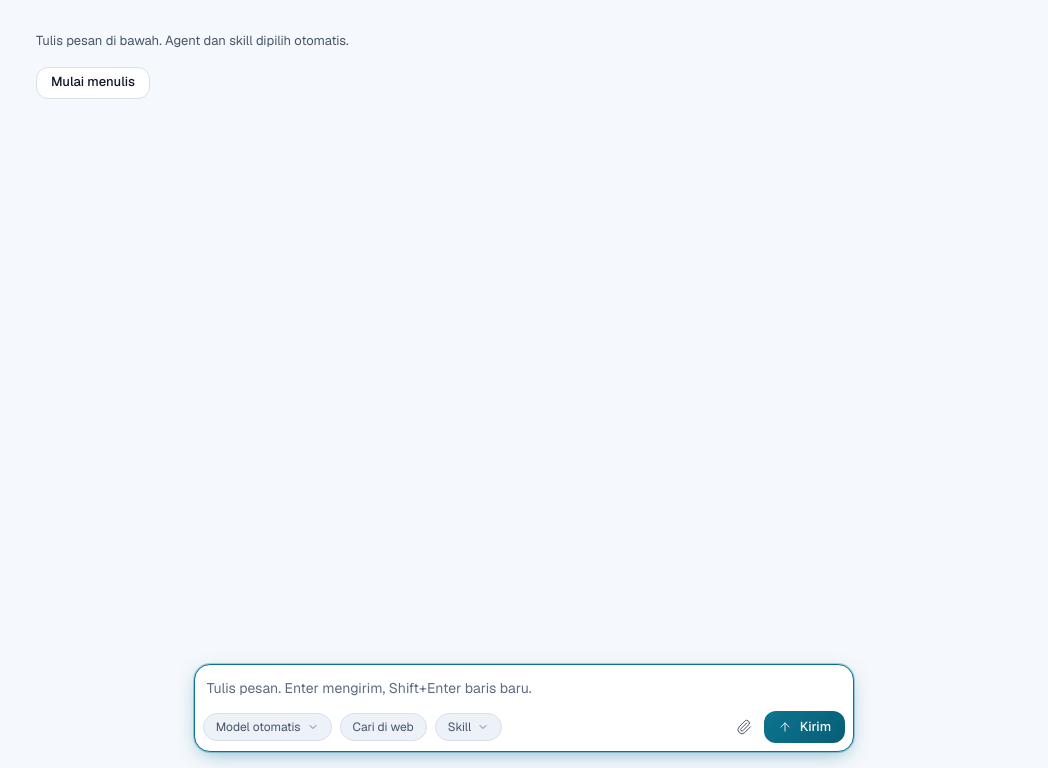
Test: ChatScreen: kirim dan alirkan jawaban › Enter mengirim; jawaban mengalir dari run:<id>; Hentikan membatalkan run
The image size is (1048, 768).
In the text box labelled "pesan": (524, 688) [203, 673, 845, 703], type "Tolong ringkas"
Then press Enter
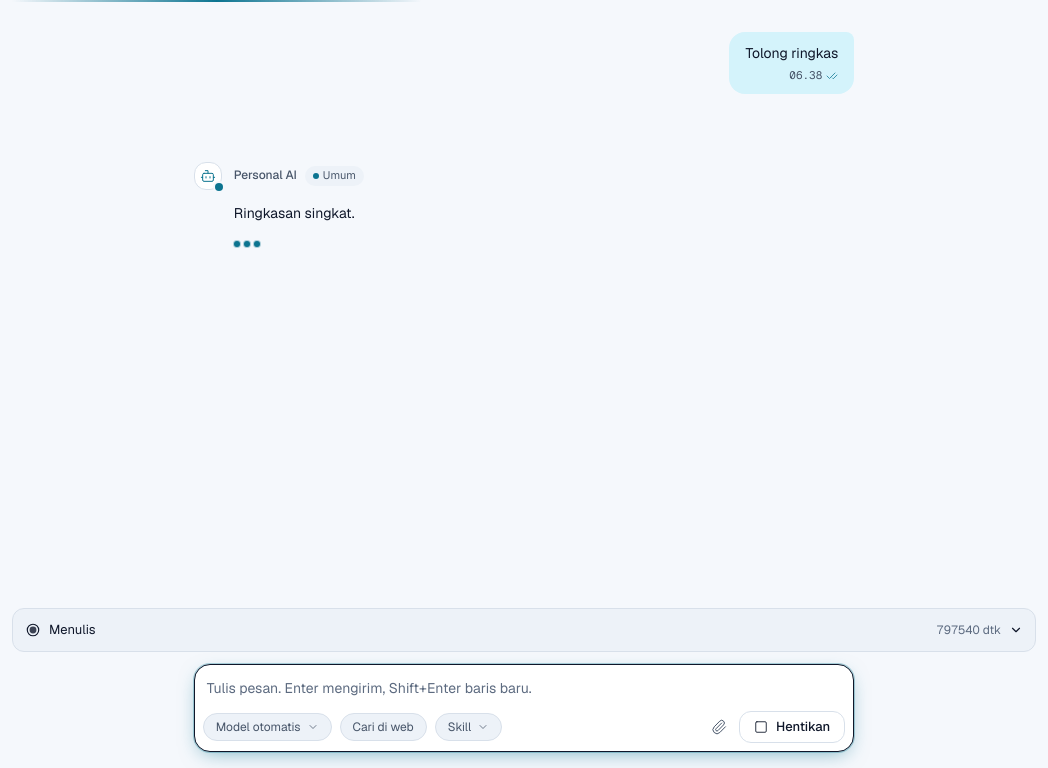
Expected: the text "Tolong ringkas" is shown, [745, 42, 838, 64]
Expected: the text "Ringkasan singkat." is shown, [234, 204, 355, 222]
Expected: the text "Umum" is shown, [305, 166, 364, 186]
Click the button "Hentikan": click(792, 727) [739, 711, 845, 743]
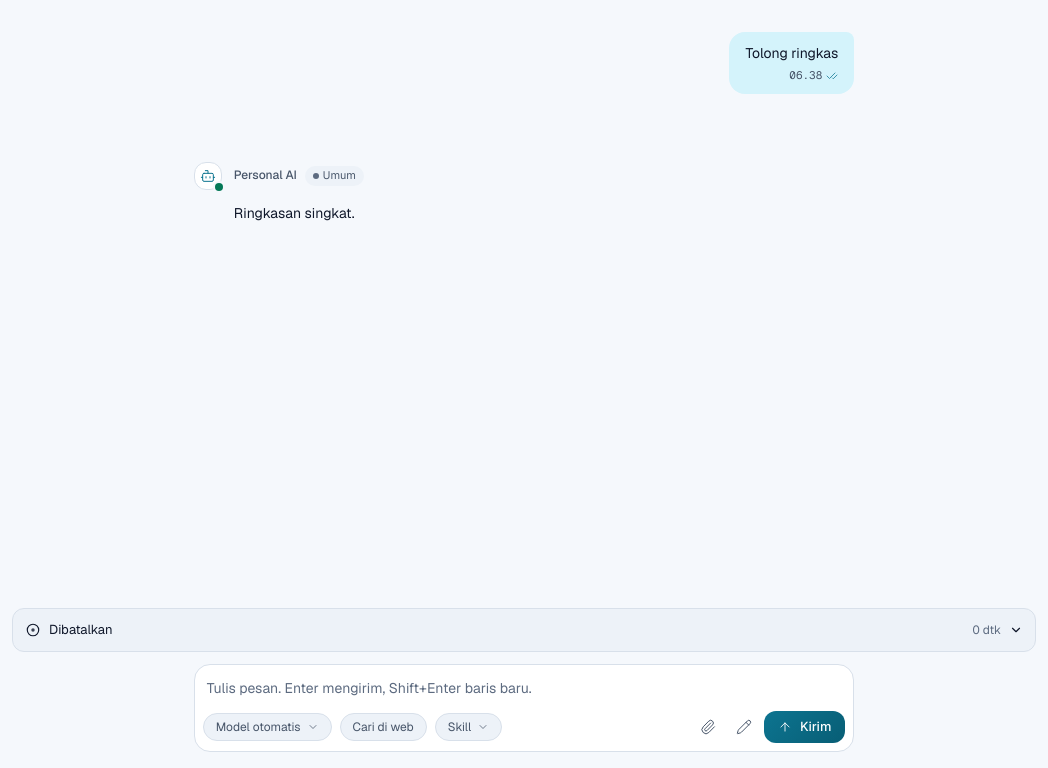
Expected: the button "Kirim" is shown, [764, 711, 845, 743]
